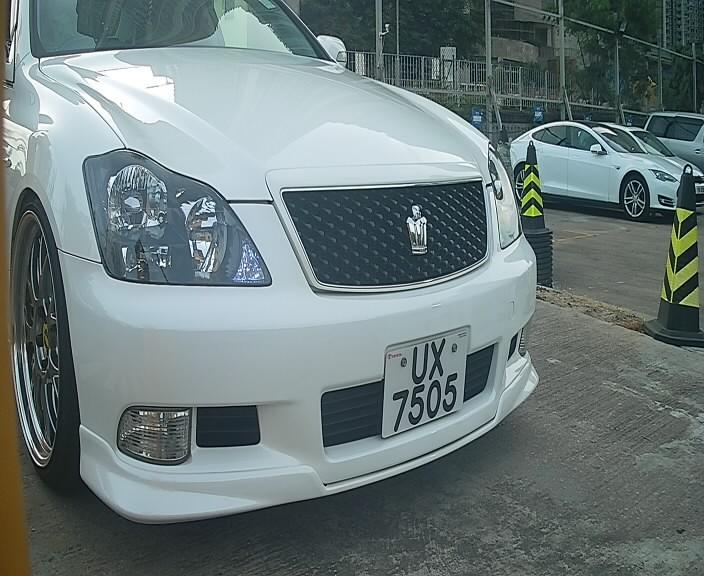License Plate: (375, 317, 478, 451)
